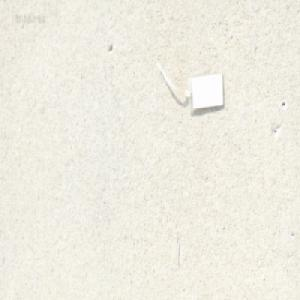LuggageTag: (154, 56, 226, 116)
